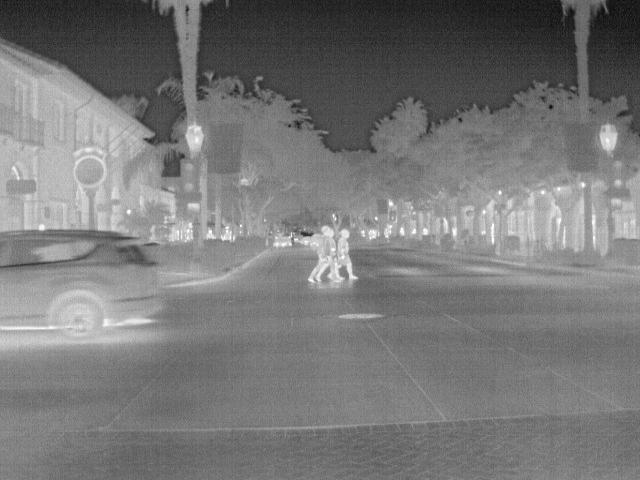car: (1, 228, 169, 339), (271, 230, 293, 248), (299, 228, 316, 244)
person: (313, 225, 342, 284), (333, 226, 357, 282)
